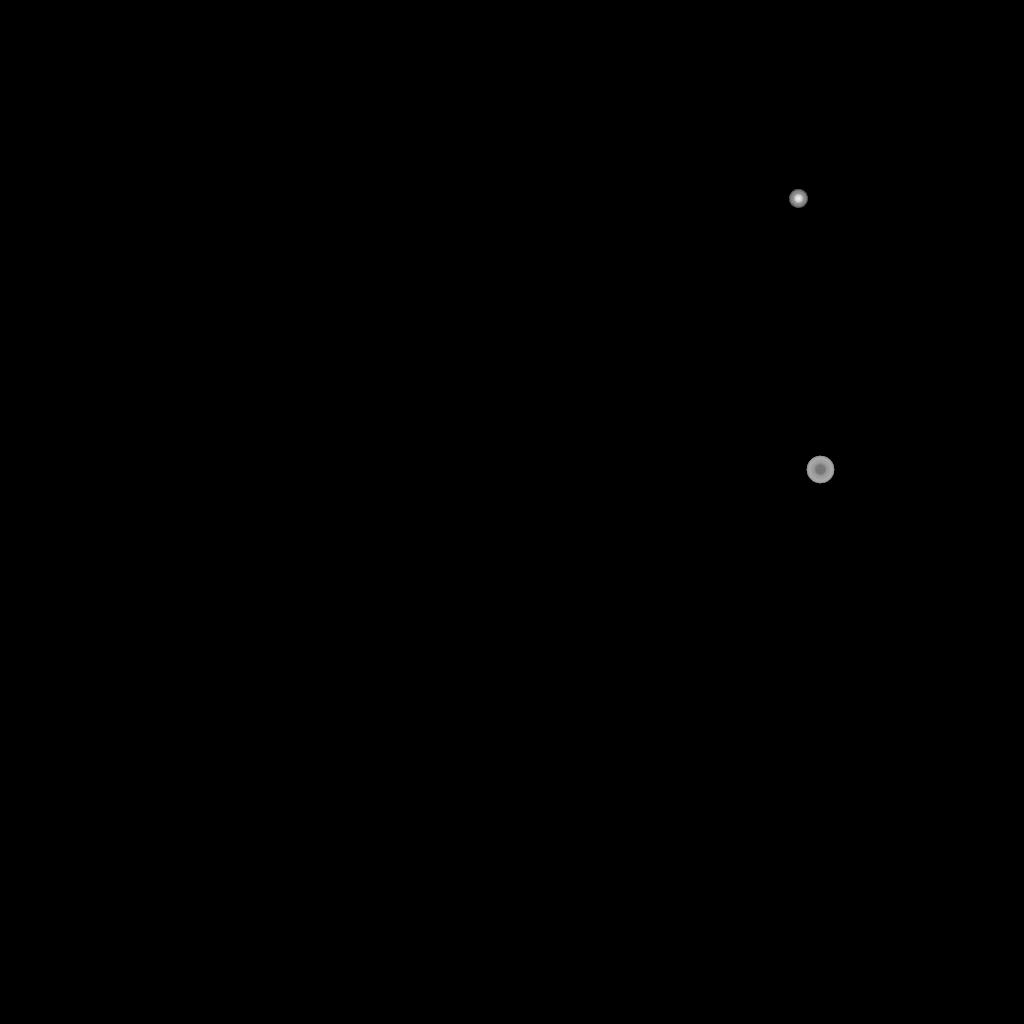depth:-20: (789, 190, 807, 208)
depth:-50: (806, 456, 834, 484)
